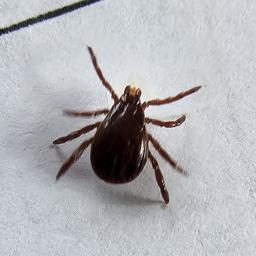Rhipicephalus sanguineus: (52, 45, 203, 205)
